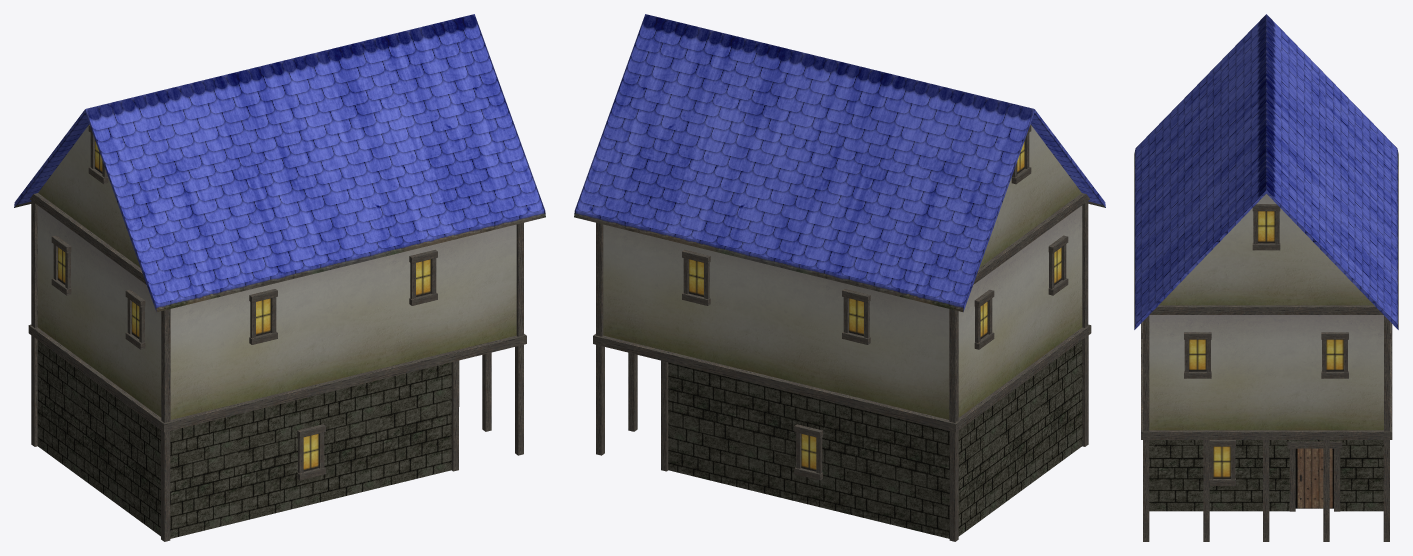
The model's file is house3.fbx.
3 renders of one model, left to right at view 1: azimuth 30°, elevation 25°; view 2: azimuth 150°, elevation 25°; view 3: azimuth 270°, elevation 25°, orthographic. The views are drawn at different scales.
Parts seen in each view (by area): view 1: polySurfac1; view 2: polySurfac1; view 3: polySurfac1.
Part boxes in pixels (x1,y1,x2,y2): polySurfac1: [14, 14, 545, 541]; polySurfac1: [574, 14, 1105, 541]; polySurfac1: [1134, 14, 1398, 541].
Size of the model in its own units: 0.6177 by 0.5872 by 0.3916.
Materials: 1 (1 with a texture image).
